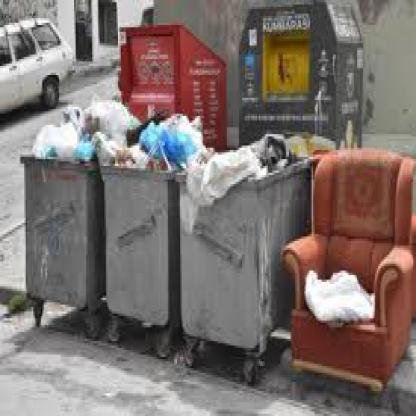Garbage: (50, 100, 141, 159), (110, 118, 203, 164), (308, 272, 376, 320), (242, 141, 295, 175), (207, 148, 253, 182), (183, 166, 212, 207)
